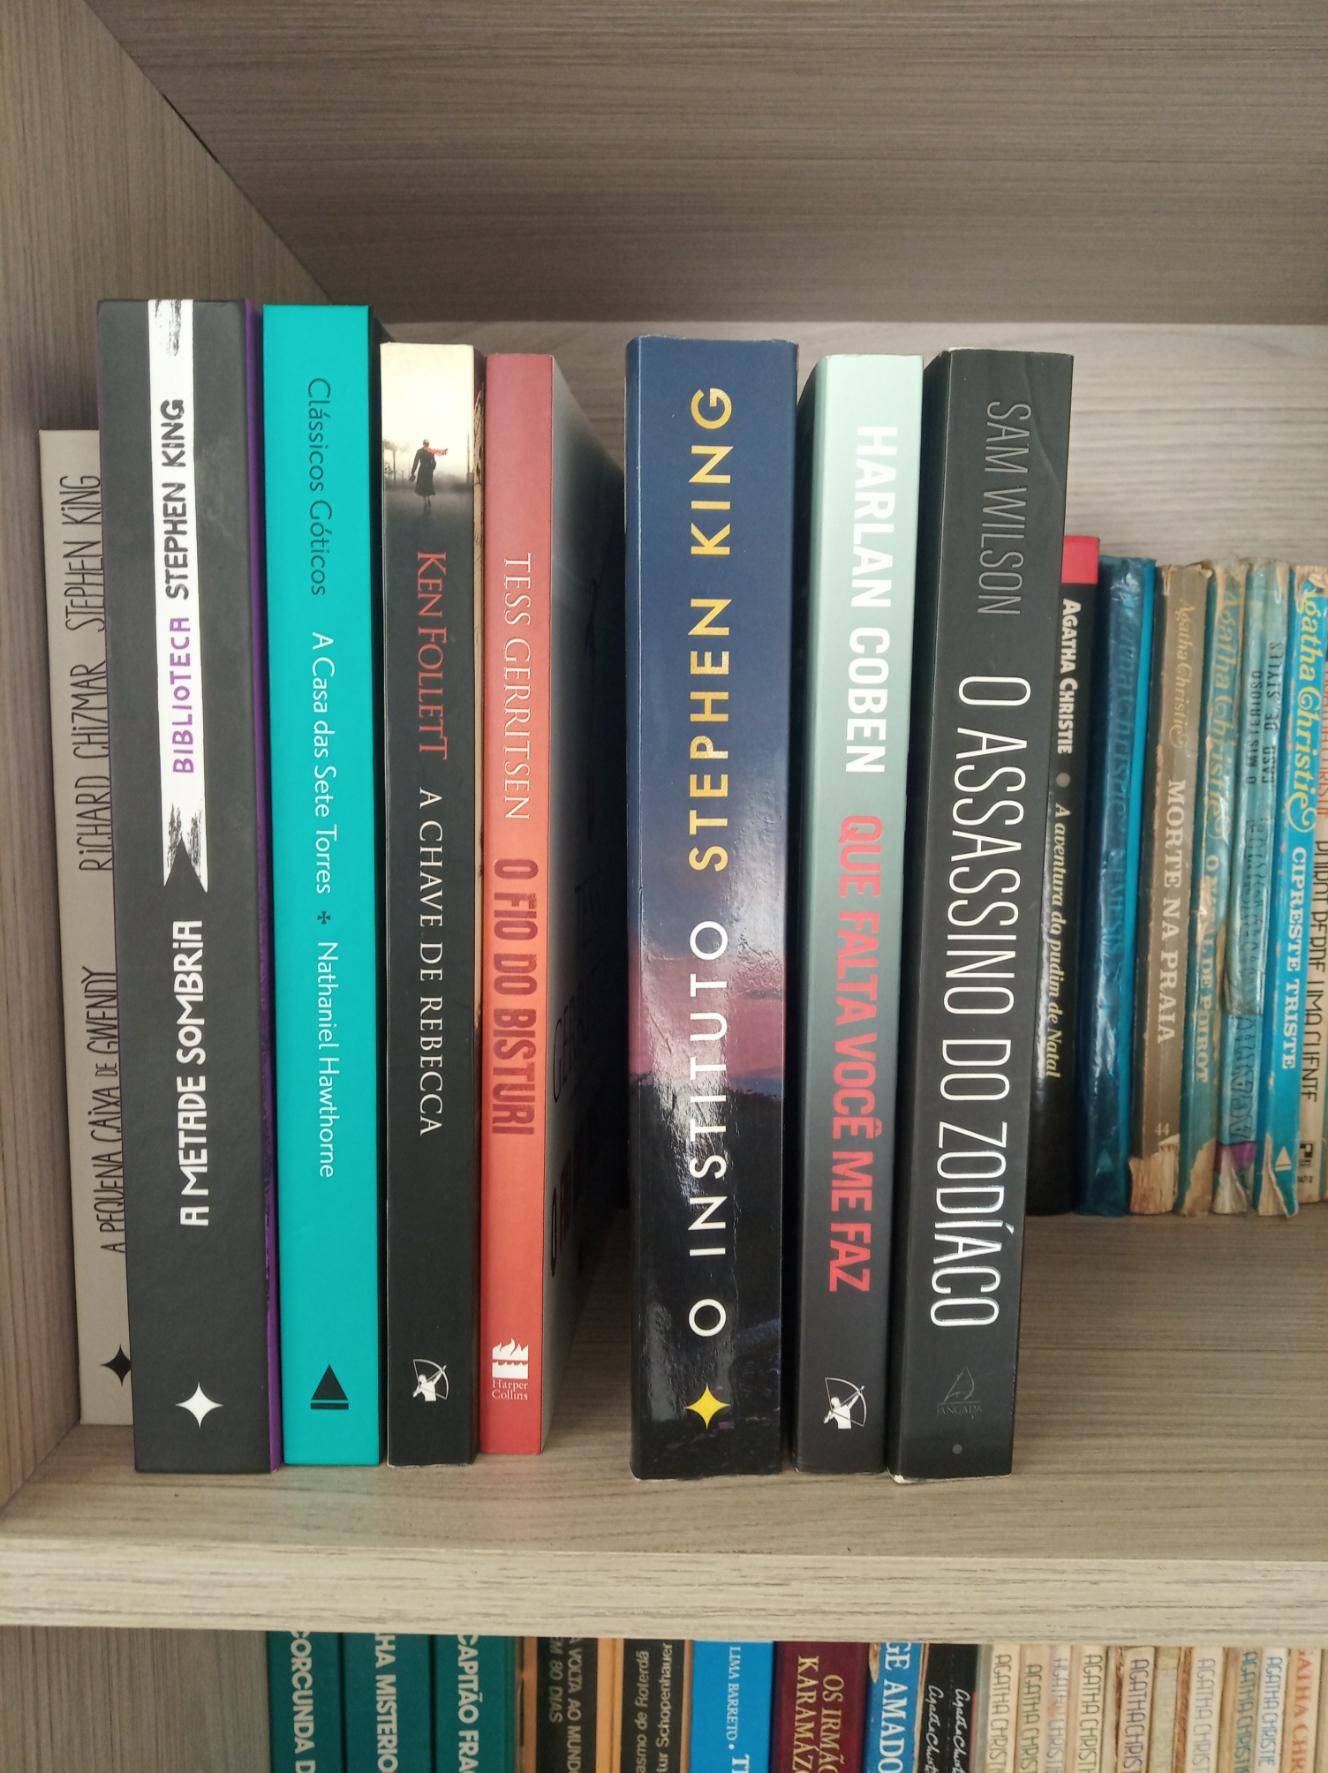book: (640, 338, 769, 1461), (133, 312, 246, 1459), (285, 326, 365, 1461), (965, 352, 1049, 1447), (810, 363, 893, 1456), (393, 340, 458, 1454), (477, 339, 541, 1452), (54, 434, 113, 1433), (1117, 548, 1151, 1207), (1306, 590, 1328, 1189)
